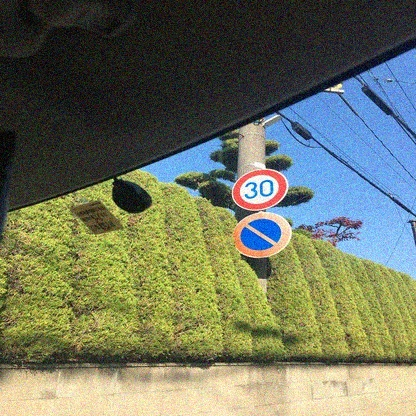Prohibition_sign: (233, 210, 298, 259)
Speed_sign: (227, 162, 289, 213)
